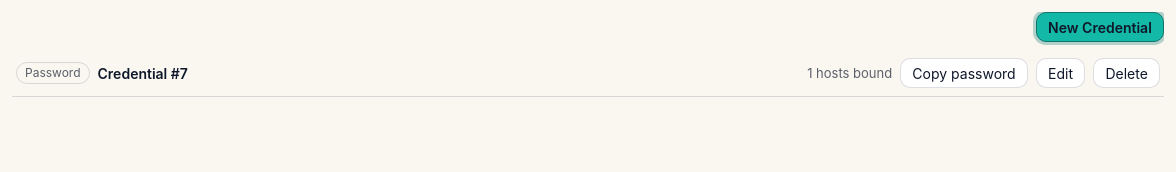
Test: CredentialList 密码复制（T11） › 复制失败：错误条展示（命令拒绝路径）
Click the button with test id "cred-copy-7" at x=964, y=73, box [900,58,1028,88]
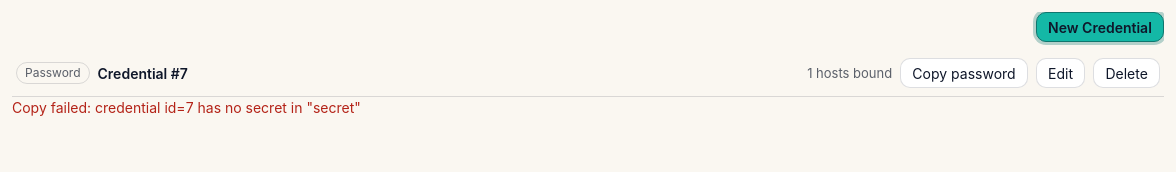
Check: the text with test id "cred-list-error" shows "Copy failed", box [12,99,361,116]
